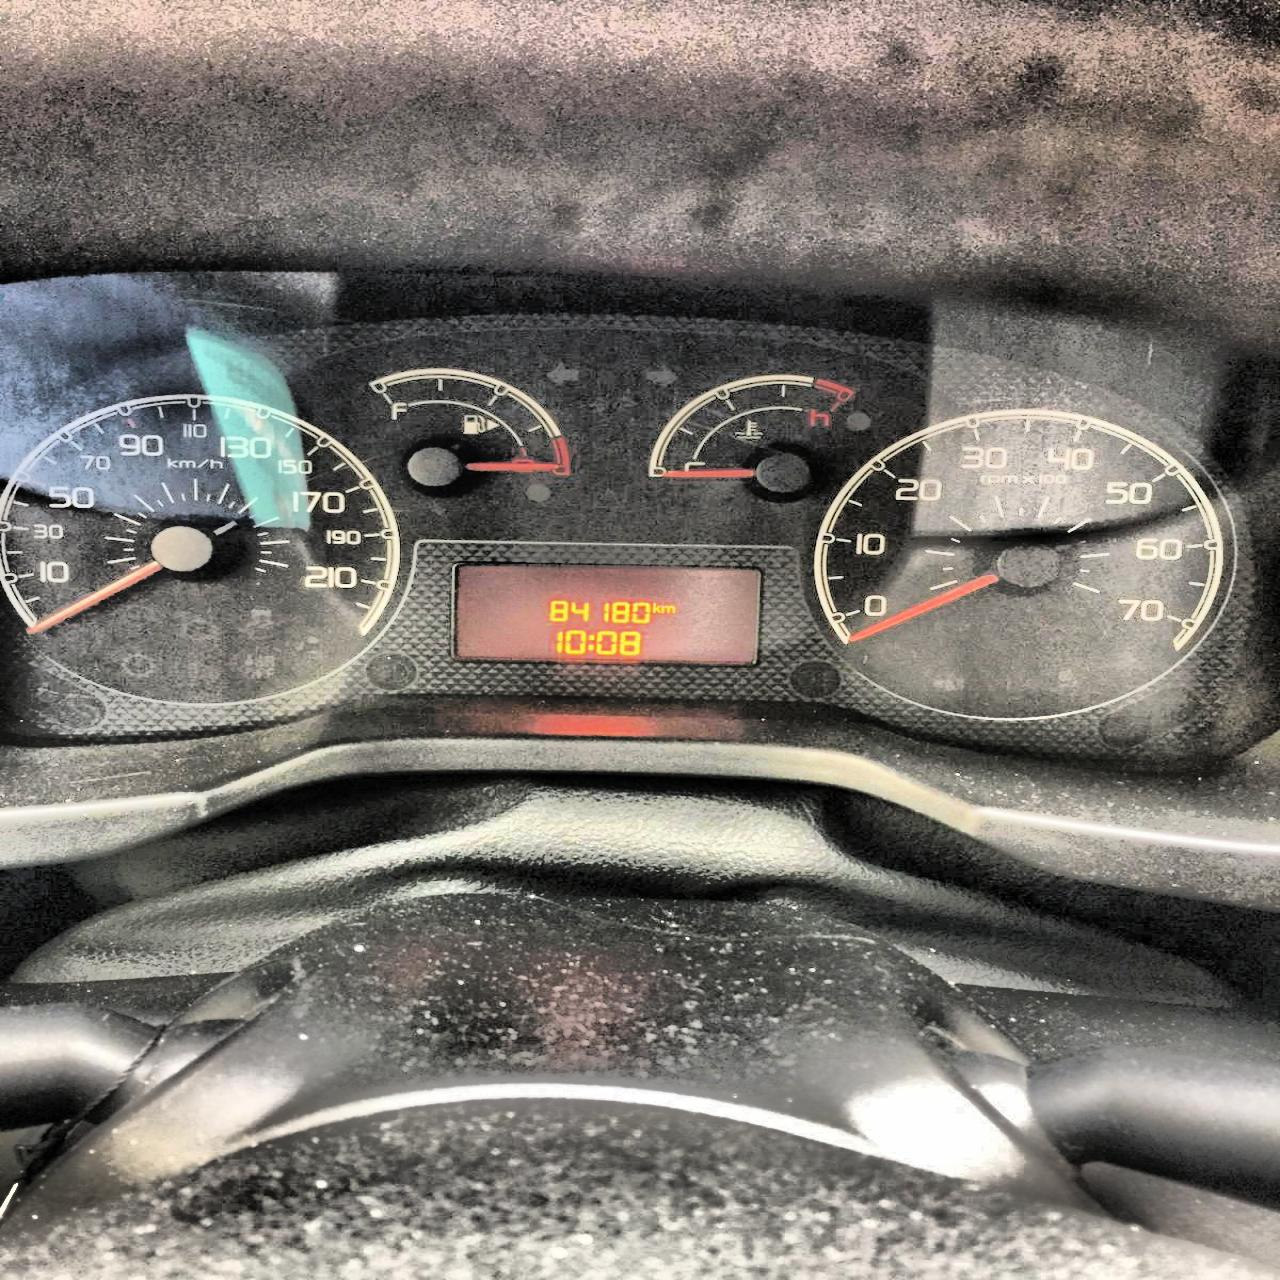0: (564, 628, 585, 655), (595, 629, 615, 655), (632, 601, 649, 624)
1: (553, 628, 564, 654), (601, 601, 610, 622)
4: (570, 601, 588, 620)
8: (619, 628, 640, 656), (547, 599, 567, 622), (610, 600, 628, 622)
X: (586, 632, 594, 651), (660, 605, 675, 614), (652, 600, 660, 613)
odometer: (448, 560, 765, 668)
